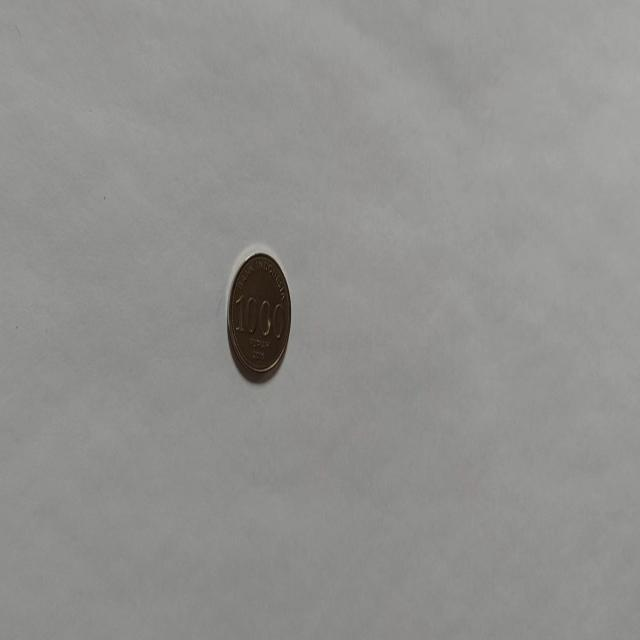seribu rupiah koin: (225, 248, 292, 382)
